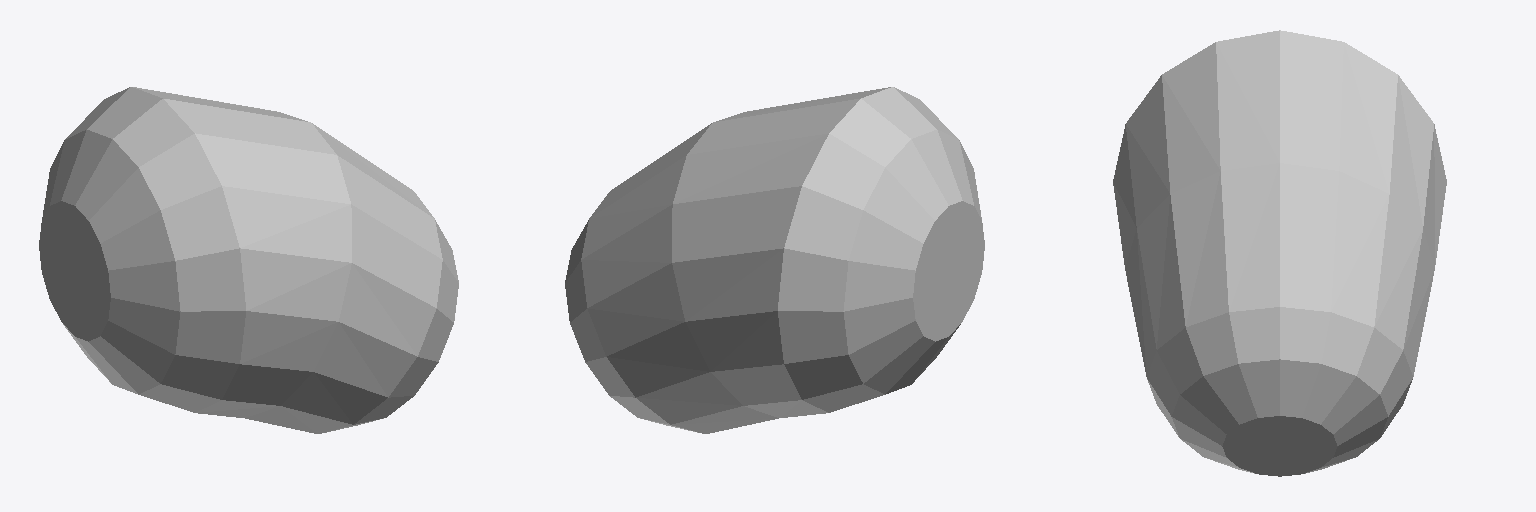
The model's file is RAU.obj.
The picture shows the model from 3 angles: view 1: azimuth 30°, elevation 25°; view 2: azimuth 150°, elevation 25°; view 3: azimuth 270°, elevation 25°; orthographic projection.
Visible parts, largest first — view 1: al:uparmL; view 2: al:uparmL; view 3: al:uparmL.
Part boxes in pixels (left/top/right/bottom): al:uparmL: left=39, top=87, right=458, bottom=433; al:uparmL: left=565, top=87, right=984, bottom=433; al:uparmL: left=1113, top=30, right=1446, bottom=476.
Bounding box in the file's own units: 1.28 × 1.22 × 1.02.